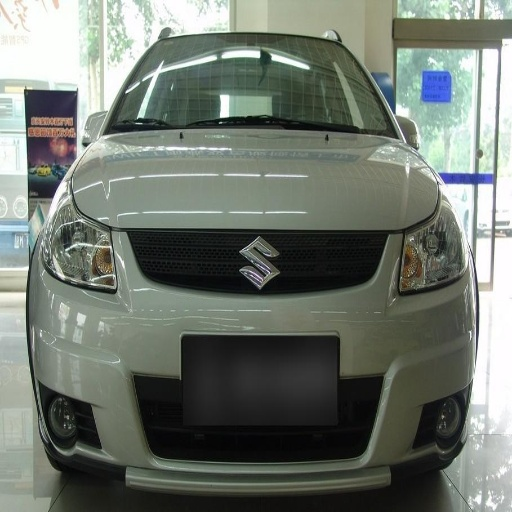front_bumper: (34, 228, 469, 492)
front_right_light: (41, 184, 118, 293)
hood: (71, 132, 439, 230)
